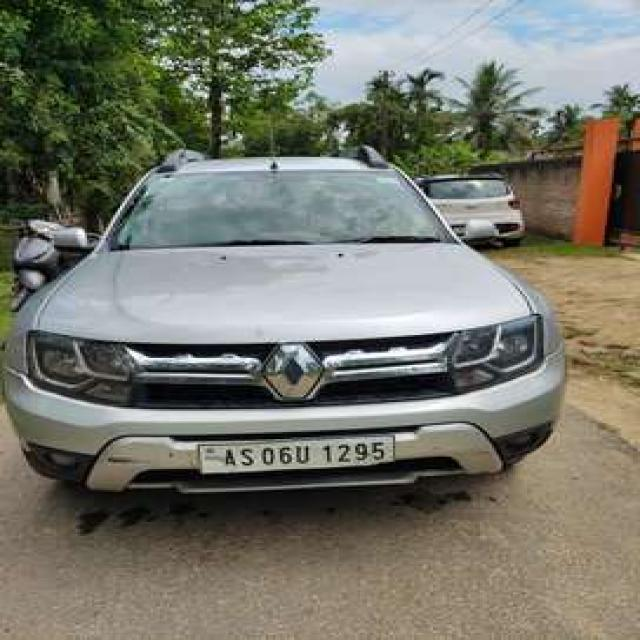license-plate: (195, 433, 393, 472)
